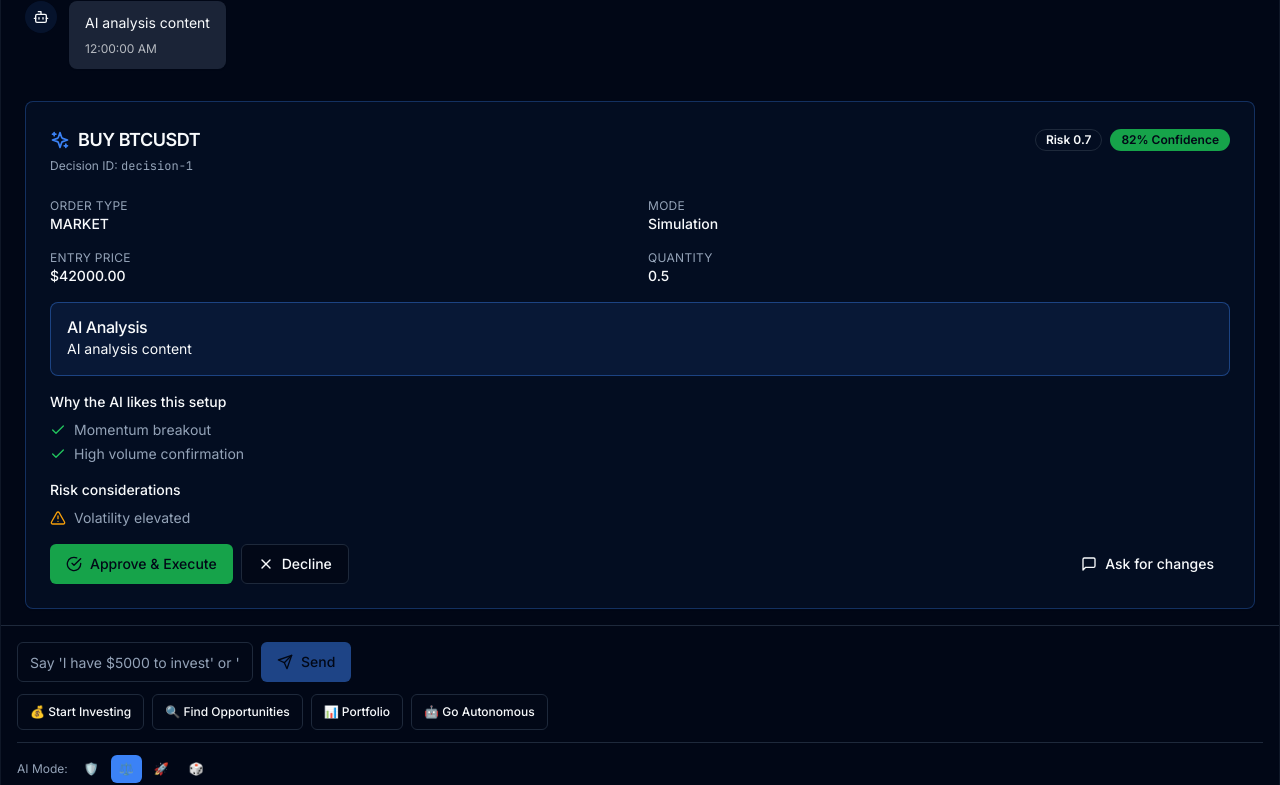
Test case: ConversationalTradingInterface - decision handling › surfaces backend errors when approval fails
(page scrolled)
Click the button "Approve & Execute" at (141,564), box [50,544,233,584]
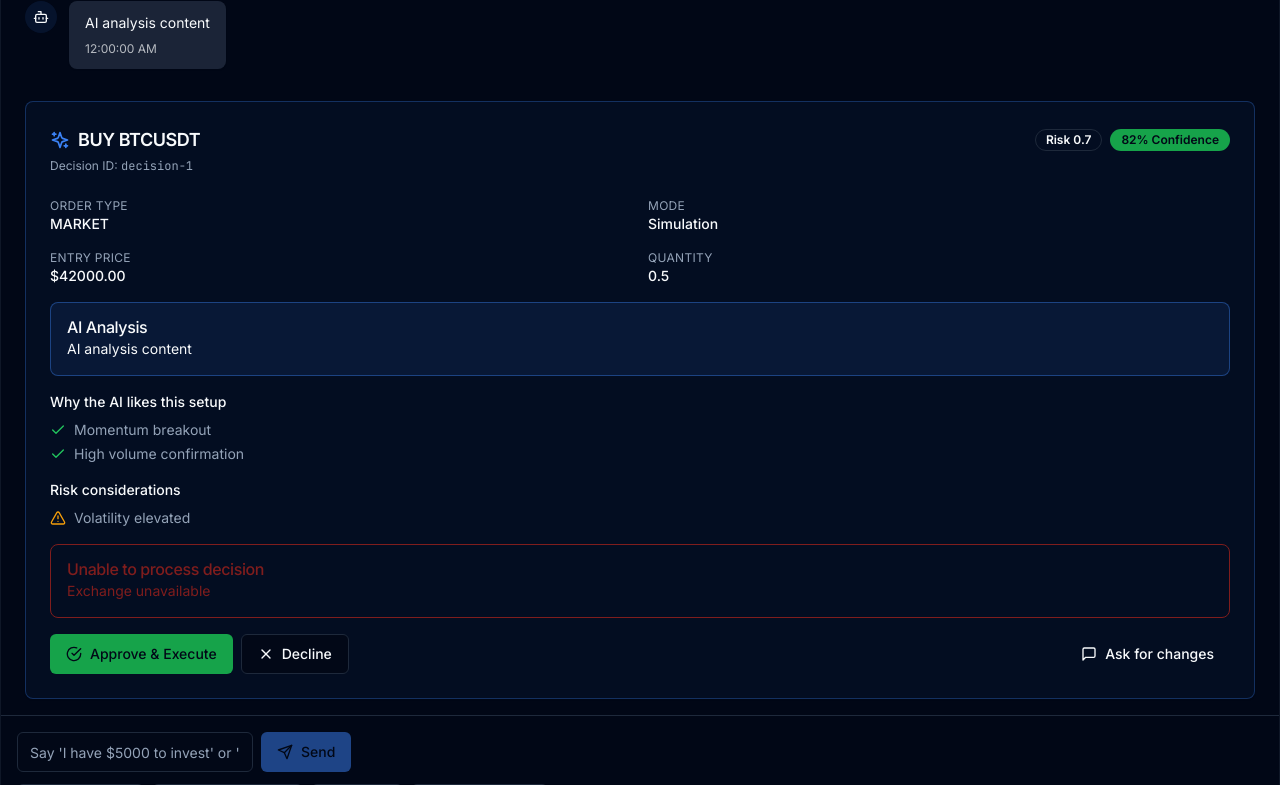
Result: the heading "Unable to process decision" is shown at [67,559,264,579]
Result: the text "Exchange unavailable" is shown at [67,582,210,599]
